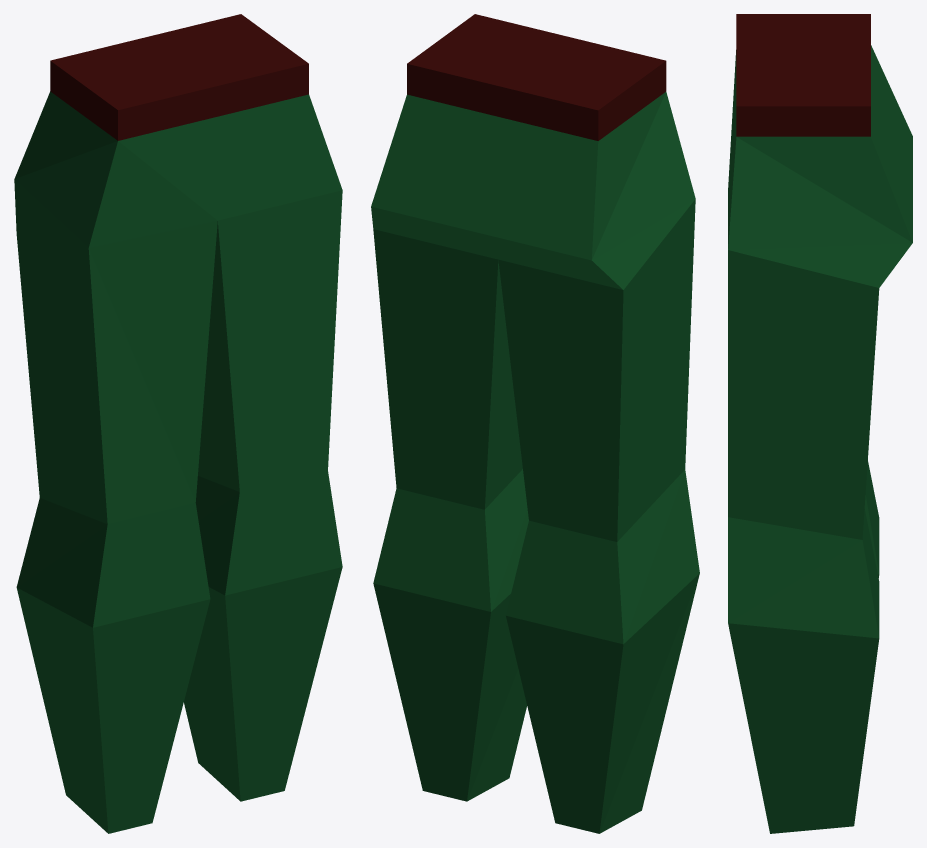
The model's file is model_254_idk.obj.
3 views of the same model, side by side, from view 1: azimuth 30°, elevation 25°; view 2: azimuth 150°, elevation 25°; view 3: azimuth 270°, elevation 25° (orthographic).
Parts seen in each view (by area): view 1: 254; view 2: 254; view 3: 254.
Part boxes in pixels (x1,y1,x2,y2): 254: (14,14,342,833); 254: (371,14,699,833); 254: (728,14,912,833).
Bounding box in the file's own units: 34 × 96 × 22.
